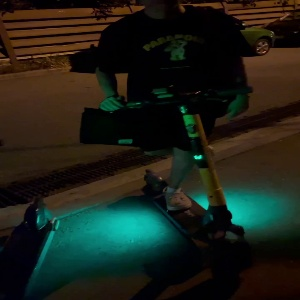human on a scooter: (74, 1, 260, 285)
